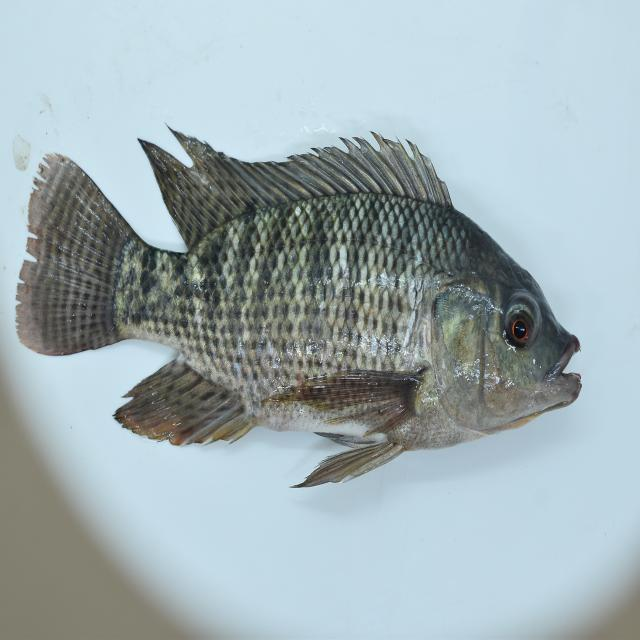Columnaris Disease: (9, 96, 592, 514)
